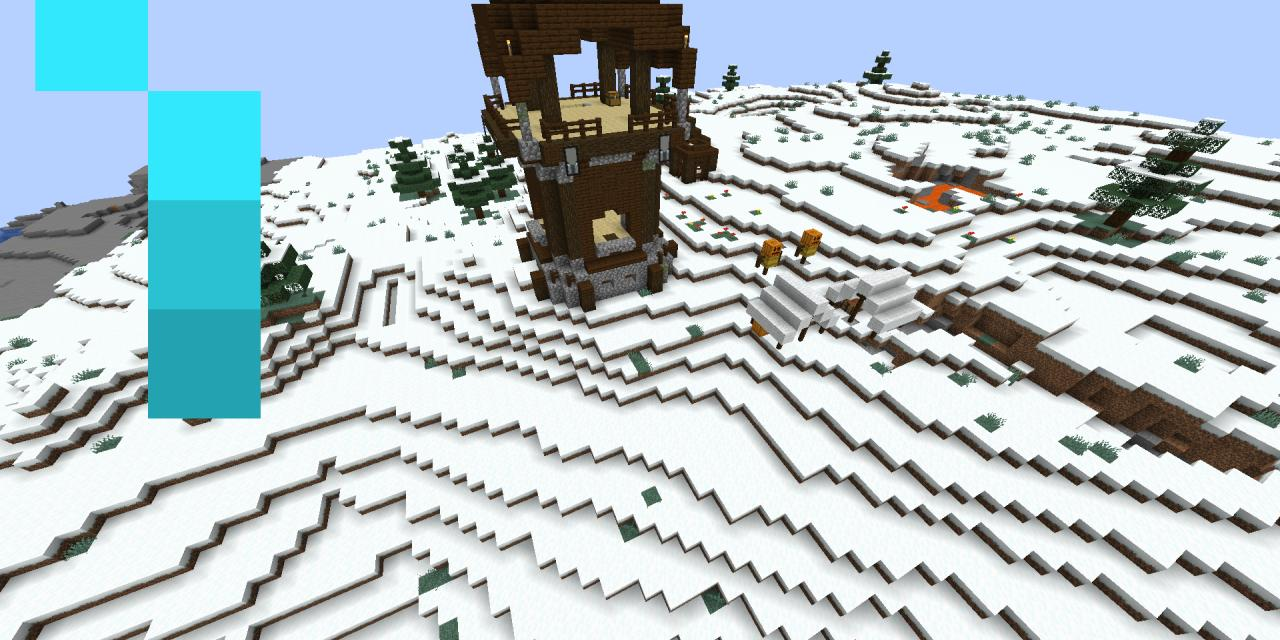pillager outpost: (468, 0, 710, 314)
